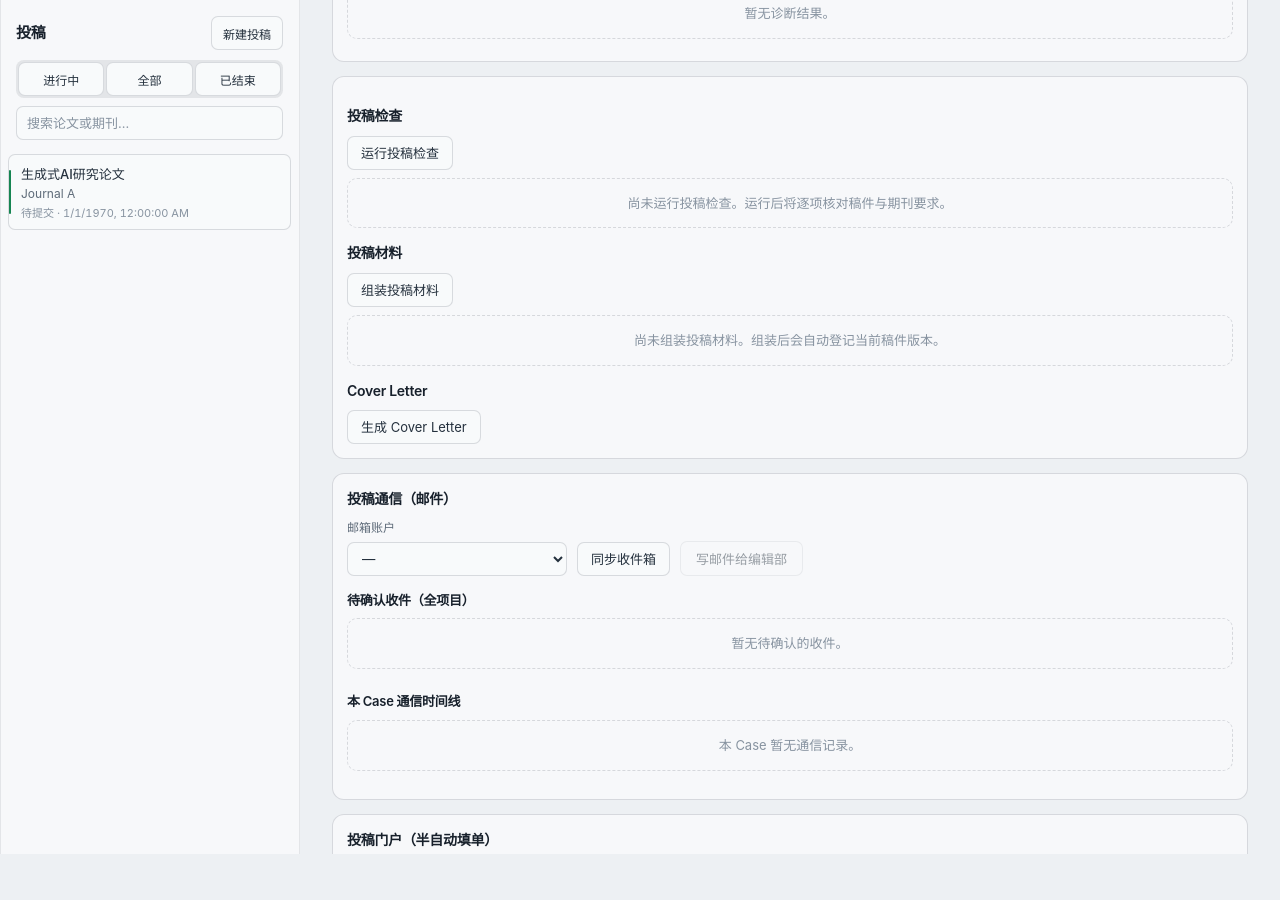
Test case: SubmissionsPage 投稿检查与材料包（P2） › Cover Letter 生成成功后显示需研究者确认的事实清单
(page scrolled)
Step 1. Click the button "生成 Cover Letter" → (414, 427), box [347,410,481,444]
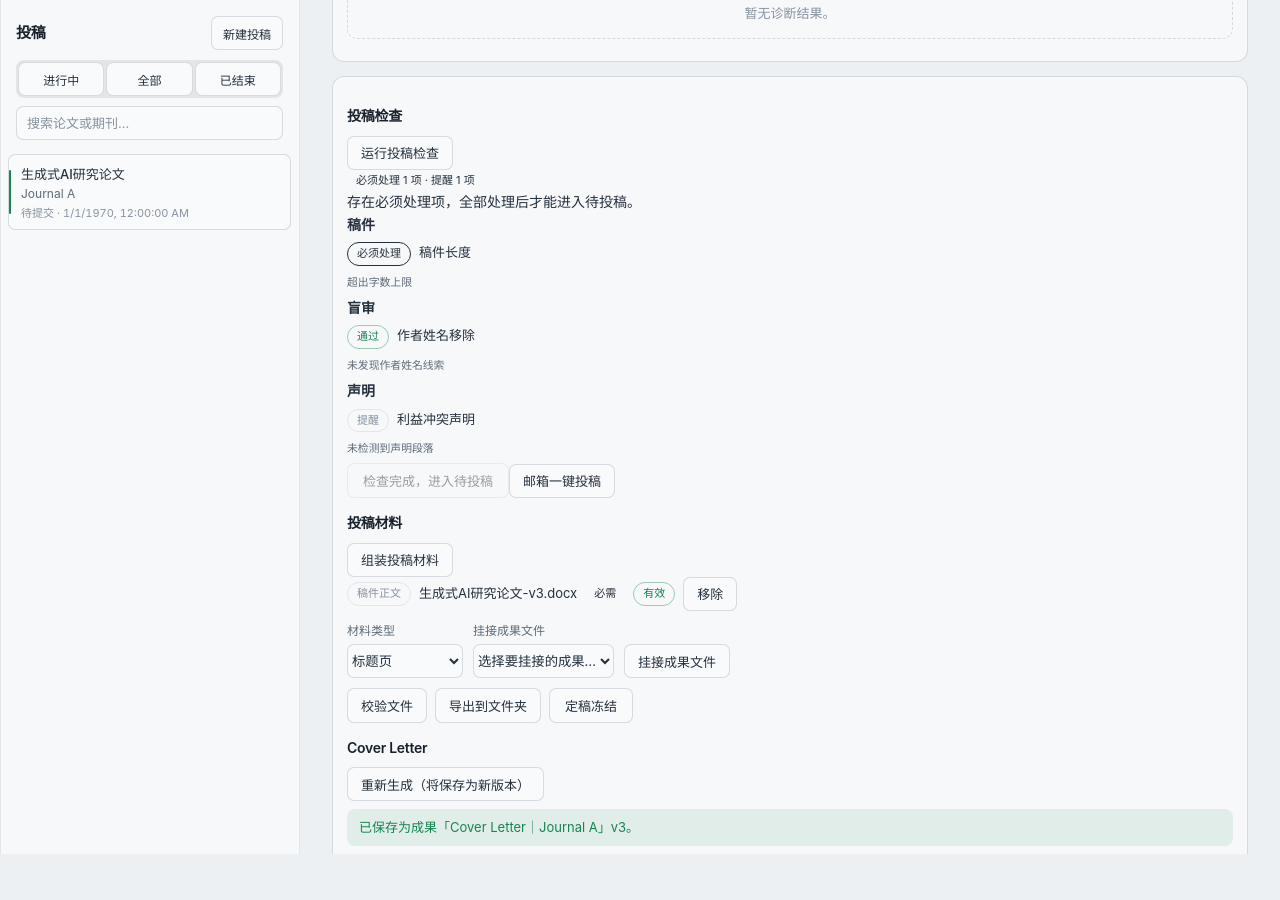
expect the button "重新生成（将保存为新版本）" is shown: met, box [347,767,544,801]
